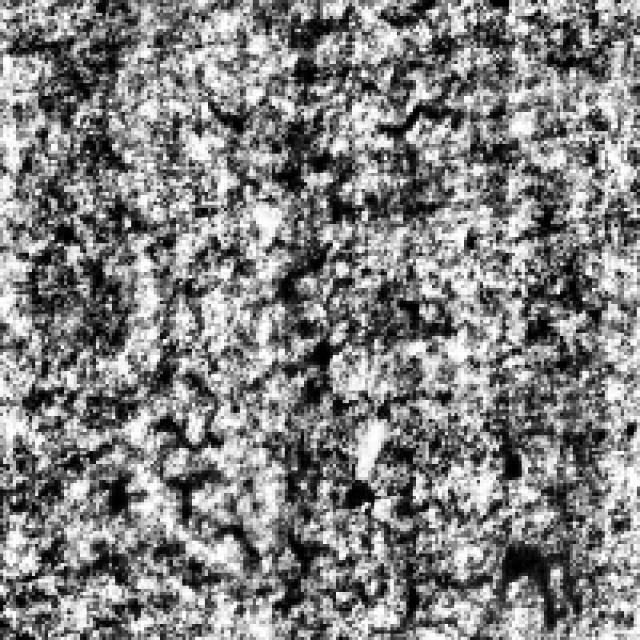Pitted_Surface: (134, 346, 301, 614)
